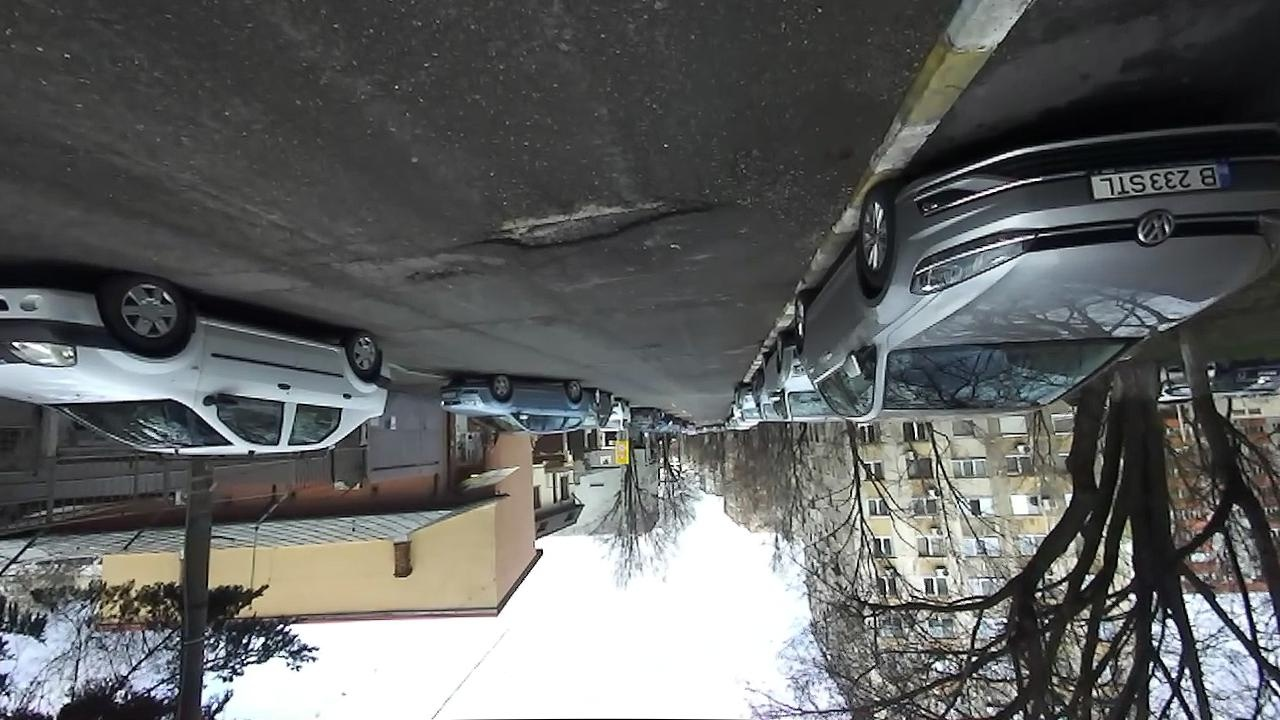pothole: (450, 197, 717, 253), (397, 262, 478, 291)
